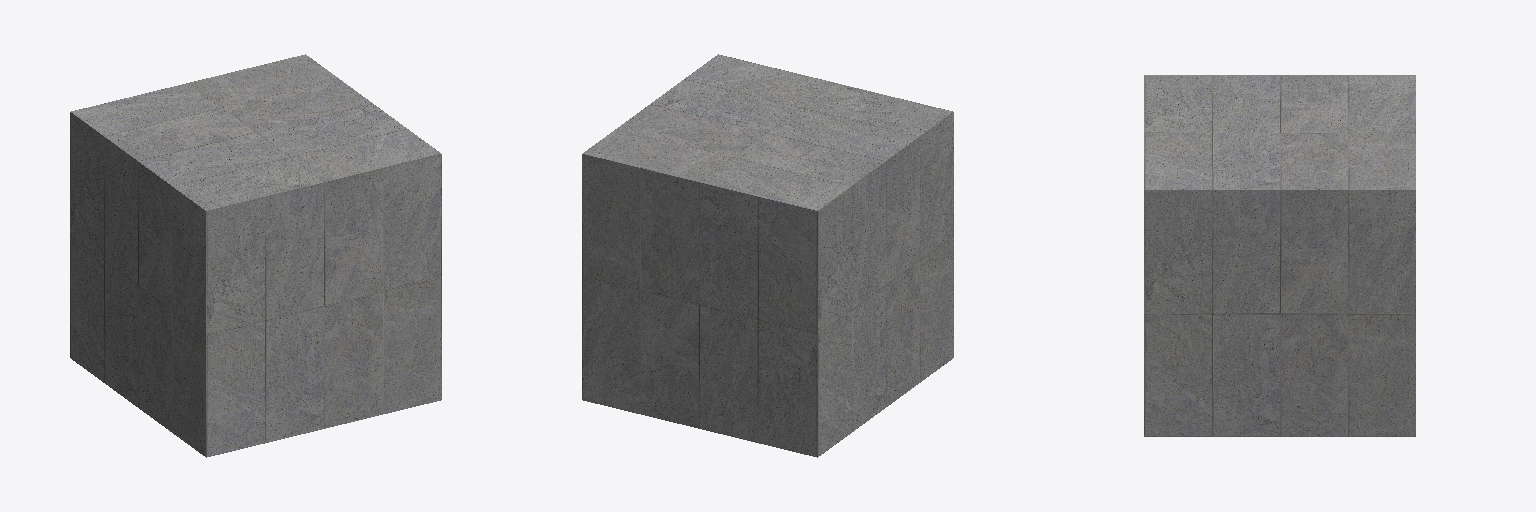
The picture shows the model from 3 angles: view 1: azimuth 30°, elevation 25°; view 2: azimuth 150°, elevation 25°; view 3: azimuth 270°, elevation 25°; orthographic projection.
Parts seen in each view (by area): view 1: cube; view 2: cube; view 3: cube.
Boxes of the visible parts, x1,y1,x2,y2 form: cube: [70, 54, 441, 457]; cube: [582, 54, 953, 457]; cube: [1144, 75, 1415, 436].
Size of the model in its own units: 1 by 1 by 1.
1 materials, 1 textured.